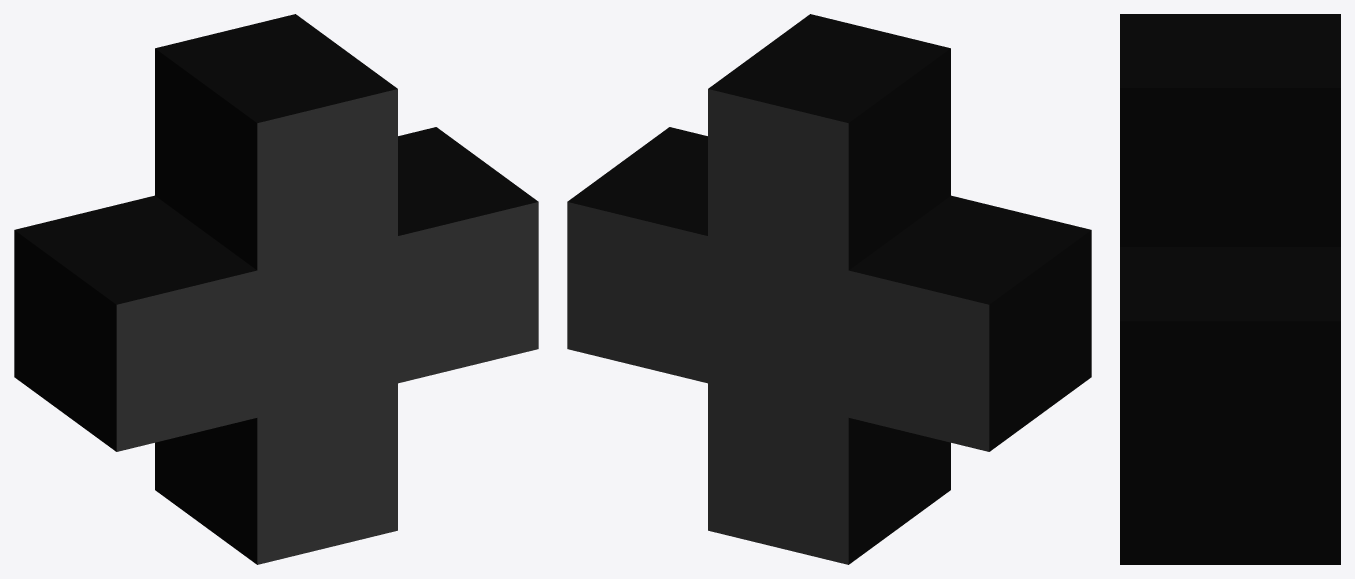
The picture shows the model from 3 angles, left to right: view 1: azimuth 30°, elevation 25°; view 2: azimuth 150°, elevation 25°; view 3: azimuth 270°, elevation 25°; orthographic projection. The views are drawn at different scales.
Parts seen in each view (by area): view 1: +_DeltaBlock_Black; view 2: +_DeltaBlock_Black; view 3: +_DeltaBlock_Black.
Part boxes in pixels (bbox=[...]): +_DeltaBlock_Black: bbox=[14, 14, 538, 564]; +_DeltaBlock_Black: bbox=[567, 14, 1091, 564]; +_DeltaBlock_Black: bbox=[1120, 14, 1340, 564].
Size of what is drawn, in the model's own units: 0.1071 by 0.1071 by 0.045.
Materials: 2 (2 with a texture image).
